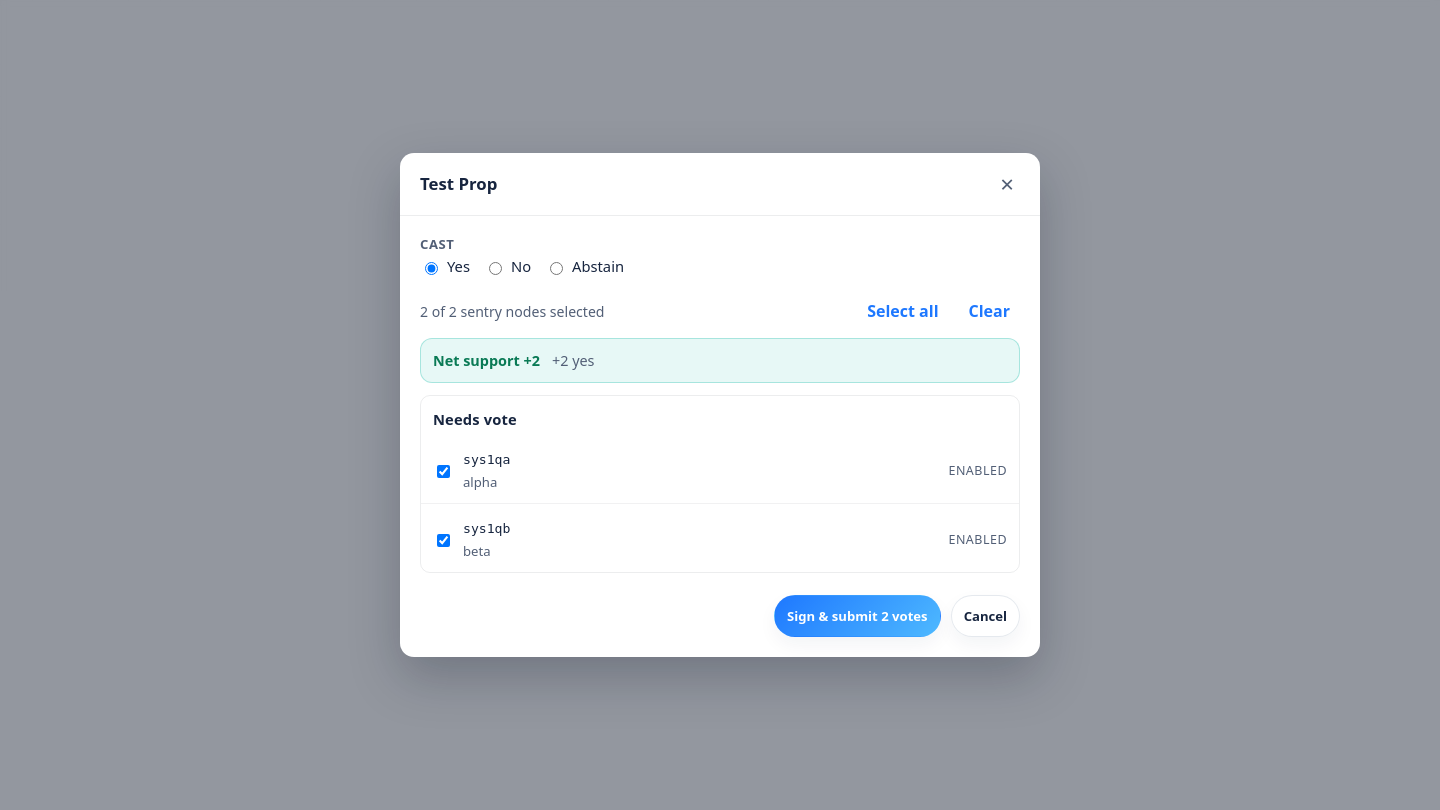
Test: ProposalVoteModal — happy-path voting › submit signs every selected MN, relays to service, renders per-entry results
Expected: the button with test id "vote-modal-submit" is enabled, top-left (774, 595), bottom-right (941, 637)
Click the radio button with test id "vote-modal-outcome-no" at [496, 268], box top-left (489, 262), bottom-right (502, 275)
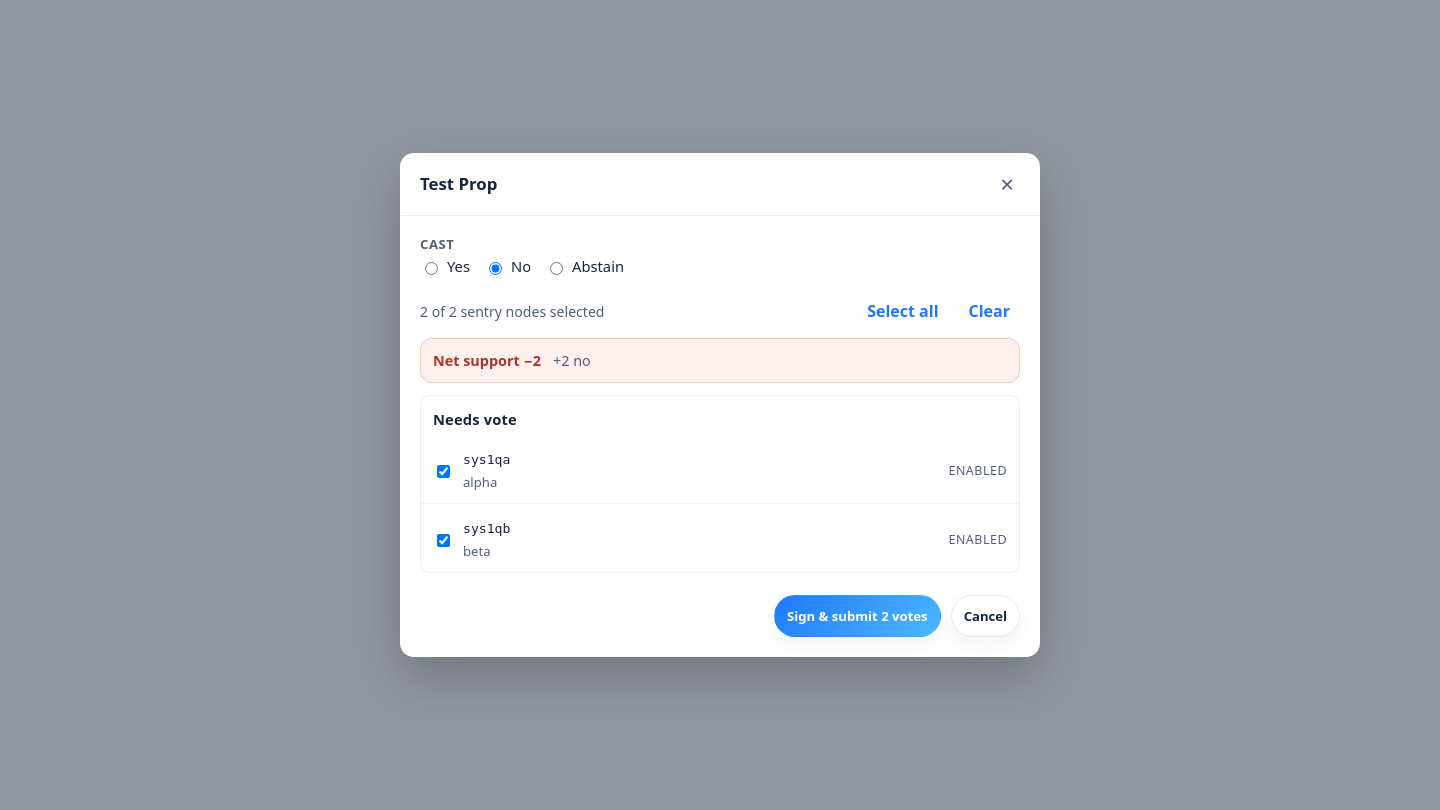
Click the button with test id "vote-modal-submit" at [857, 616], box top-left (774, 595), bottom-right (941, 637)
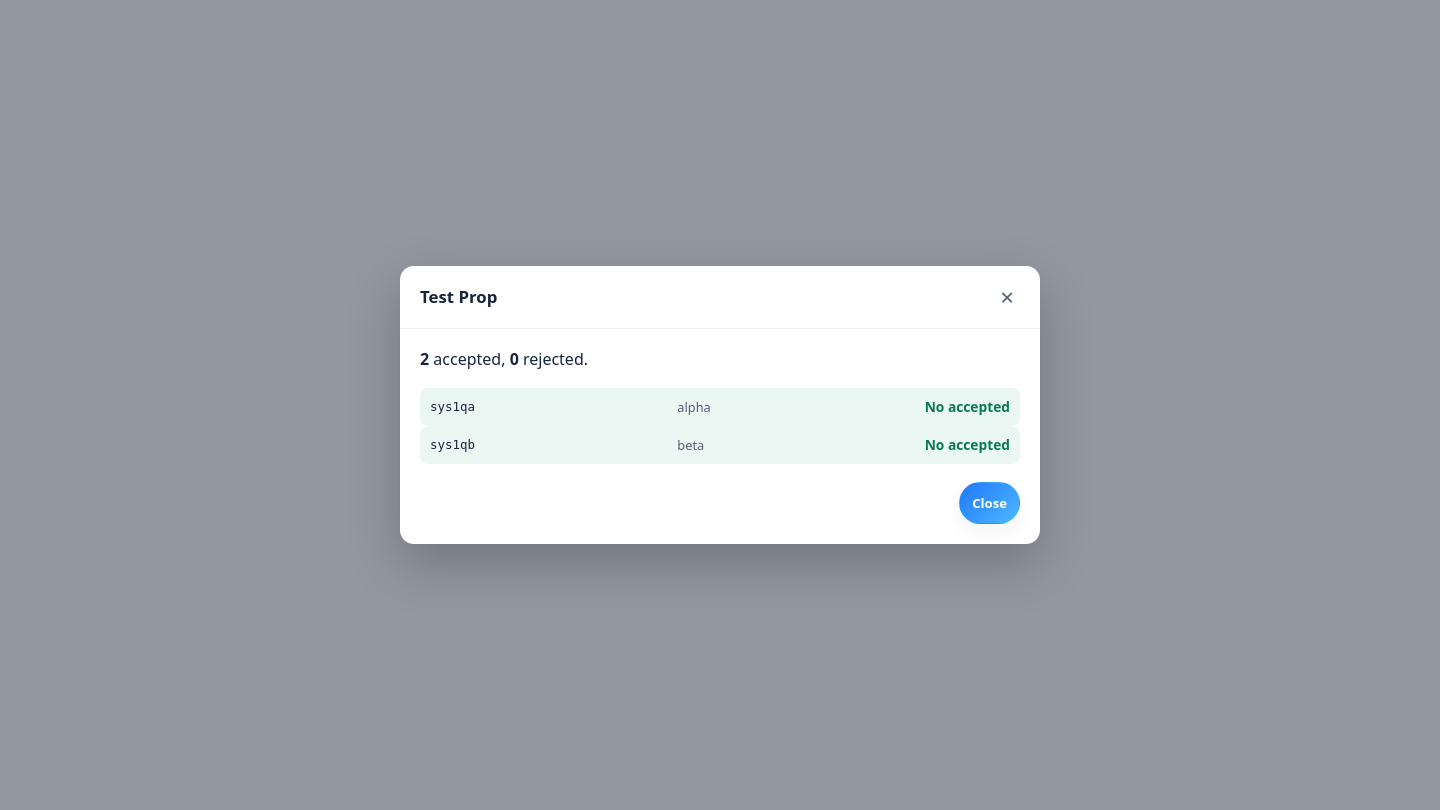
Result: the element with test id "vote-modal-done" is shown at top-left (420, 347), bottom-right (1020, 524)
Result: the number of list items with test id "vote-result-row" is 2 at top-left (420, 388), bottom-right (1020, 426); top-left (420, 426), bottom-right (1020, 464)
